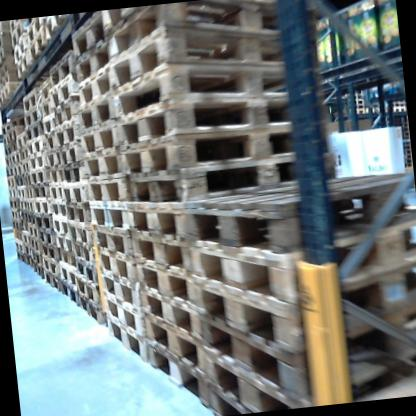pallet: (180, 158, 416, 276), (200, 282, 416, 409), (194, 249, 416, 361), (189, 203, 416, 312), (105, 11, 330, 87), (109, 49, 332, 118), (117, 113, 337, 180), (126, 151, 344, 215), (113, 82, 334, 144), (103, 0, 328, 58), (140, 270, 252, 341), (141, 297, 229, 386), (124, 187, 239, 247), (207, 342, 302, 412), (144, 329, 217, 416), (129, 217, 224, 282), (134, 248, 219, 313), (76, 61, 129, 117), (74, 84, 124, 136), (68, 12, 117, 61), (71, 38, 117, 88), (99, 260, 140, 315), (90, 216, 135, 264), (109, 317, 149, 370), (207, 380, 259, 416), (104, 290, 143, 338), (89, 192, 133, 233), (95, 243, 136, 284), (83, 141, 126, 180), (49, 74, 88, 114), (84, 175, 128, 210), (80, 118, 122, 154), (37, 14, 73, 51), (48, 51, 83, 86), (55, 117, 90, 151), (50, 96, 85, 130), (65, 217, 100, 250), (77, 293, 108, 330), (105, 8, 145, 35), (61, 180, 96, 209), (59, 160, 95, 187), (65, 198, 97, 227), (76, 276, 103, 307), (58, 138, 88, 165), (0, 80, 30, 107), (12, 47, 35, 80), (57, 257, 80, 288), (78, 255, 101, 285), (37, 72, 59, 102), (55, 276, 78, 304), (39, 131, 63, 157), (18, 85, 43, 109), (75, 240, 101, 262), (34, 211, 57, 235), (45, 177, 66, 202), (41, 268, 62, 293), (39, 240, 60, 265), (9, 23, 30, 48), (29, 28, 44, 63), (47, 194, 65, 222), (41, 147, 64, 168), (22, 121, 45, 142), (0, 90, 26, 108), (52, 232, 73, 253), (57, 248, 78, 269), (25, 134, 47, 154), (0, 55, 19, 78), (37, 93, 55, 117), (26, 152, 47, 172), (43, 255, 61, 278), (31, 181, 54, 199), (27, 18, 45, 41), (43, 166, 62, 187), (22, 109, 41, 130), (50, 214, 69, 234), (9, 120, 26, 142), (33, 197, 56, 213), (13, 37, 26, 64), (41, 116, 57, 137), (38, 228, 55, 247), (0, 70, 20, 86), (27, 220, 40, 242), (7, 113, 24, 129), (16, 146, 31, 164), (29, 170, 49, 183), (7, 19, 28, 31), (16, 131, 30, 149), (17, 215, 30, 234), (30, 233, 41, 255), (11, 251, 27, 266), (10, 134, 26, 149), (14, 185, 29, 201), (11, 161, 28, 175), (20, 241, 34, 257), (13, 173, 29, 187), (12, 220, 23, 240), (30, 245, 41, 264), (0, 47, 13, 63), (22, 230, 34, 247), (22, 168, 33, 186), (7, 195, 18, 213), (344, 87, 363, 97), (33, 262, 42, 282), (13, 239, 25, 254), (10, 150, 25, 162), (24, 197, 35, 213), (27, 212, 37, 229), (8, 209, 21, 222), (0, 132, 12, 146), (3, 155, 15, 169), (17, 196, 28, 210), (21, 154, 31, 169), (348, 108, 366, 116), (2, 143, 13, 156), (393, 115, 407, 125), (23, 184, 33, 198), (26, 255, 36, 269), (6, 175, 16, 189), (350, 99, 365, 107), (0, 67, 6, 87), (18, 209, 27, 222), (0, 115, 7, 130), (392, 100, 405, 108), (7, 188, 17, 198), (349, 95, 365, 101), (0, 27, 7, 40), (348, 106, 365, 111), (0, 79, 5, 95), (5, 168, 15, 176), (394, 106, 406, 112), (403, 141, 410, 150), (0, 39, 6, 48), (405, 161, 413, 167), (401, 122, 408, 128), (403, 149, 411, 154), (403, 131, 409, 136), (404, 153, 410, 158), (404, 157, 411, 161), (403, 126, 408, 131), (0, 21, 4, 27)
